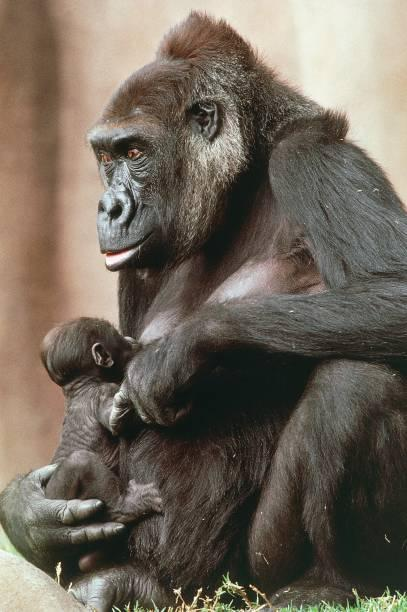gorille_Autres: (22, 2, 407, 598)
